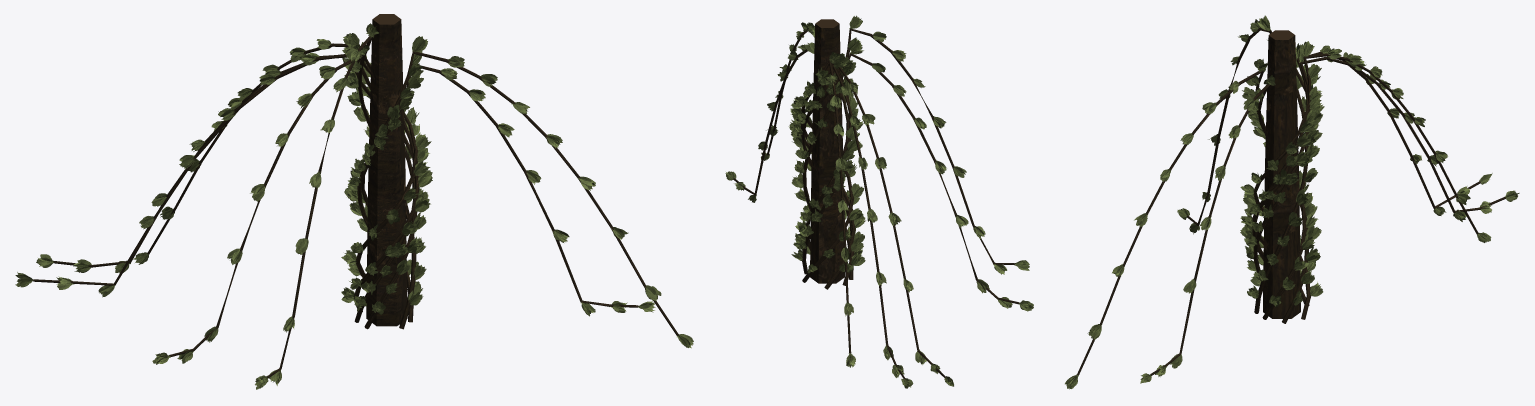
The model's file is liana_cluster_v02.fbx.
The picture shows the model from 3 angles, left to right: view 1: azimuth 30°, elevation 25°; view 2: azimuth 150°, elevation 25°; view 3: azimuth 270°, elevation 25°; orthographic projection. The views are drawn at different scales.
Visible parts, largest first — view 1: liana_cluster_v02; view 2: liana_cluster_v02; view 3: liana_cluster_v02.
Boxes of the visible parts, left/top/right/bottom form: liana_cluster_v02: left=15, top=14, right=693, bottom=389; liana_cluster_v02: left=725, top=15, right=1033, bottom=388; liana_cluster_v02: left=1065, top=15, right=1519, bottom=389.
Bounding box in the file's own units: 230 × 149 × 216.
2 materials, 2 textured.
